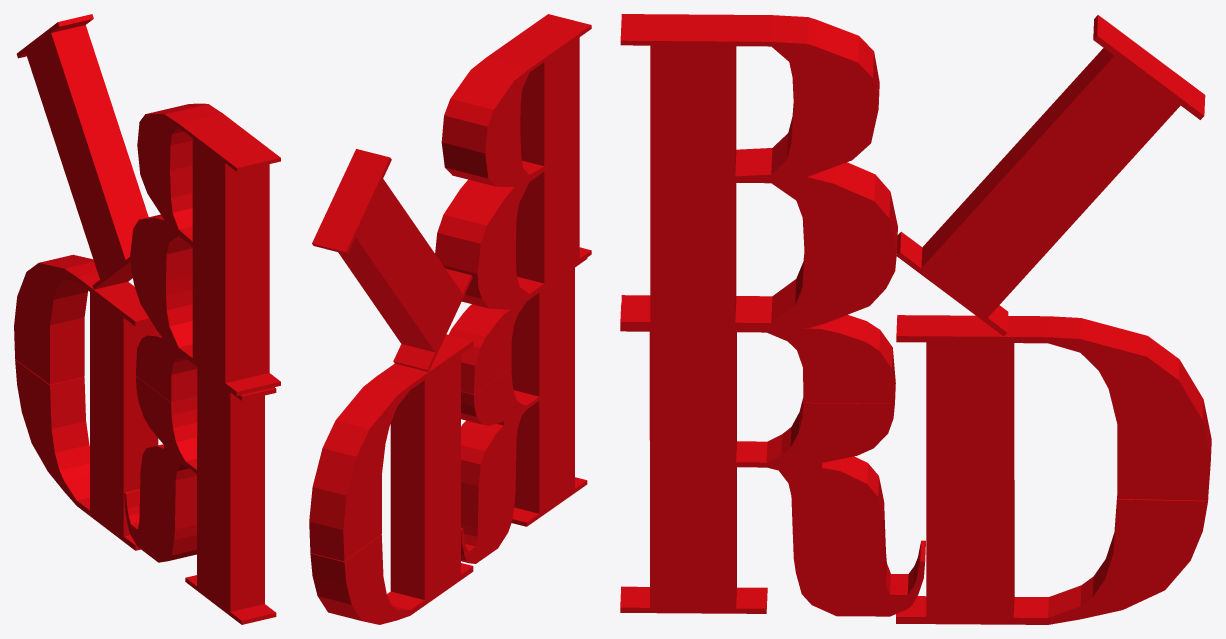
The model's file is birdstatue.fbx.
3 views of the same model, side by side, from view 1: azimuth 30°, elevation 25°; view 2: azimuth 150°, elevation 25°; view 3: azimuth 270°, elevation 25° (orthographic). The views are drawn at different scales.
Visible parts, largest first — view 1: Cube.031; view 2: Cube.031; view 3: Cube.031.
Part boxes in pixels (x1=…): Cube.031: x1=14, y1=14, x2=280, y2=624; Cube.031: x1=309, y1=14, x2=591, y2=624; Cube.031: x1=620, y1=14, x2=1211, y2=624.
Bounding box in the file's own units: 276 × 2622 × 2384.
